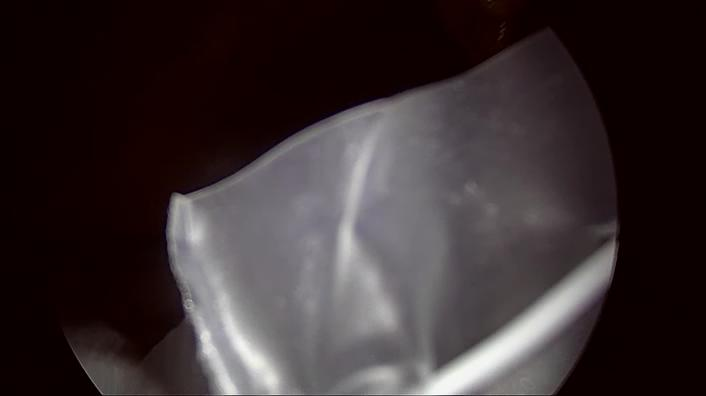SpecimenBag: (160, 53, 551, 389)
